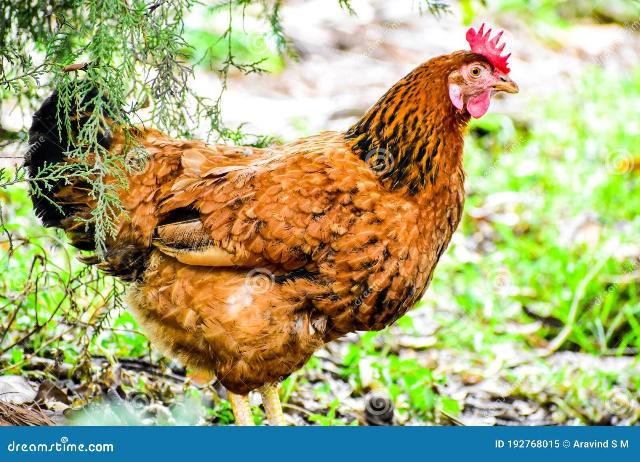Chicken: (25, 23, 517, 427)
